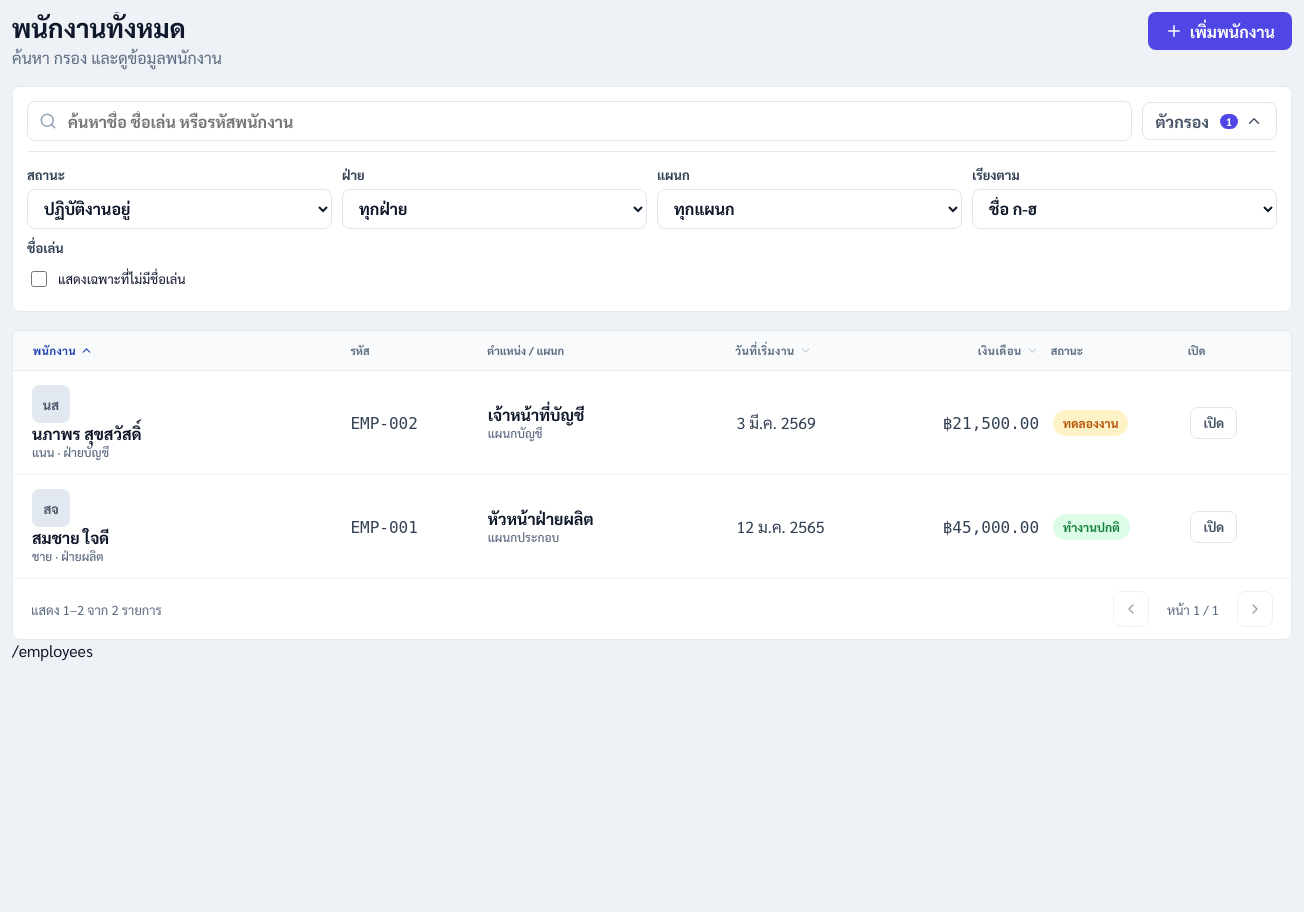
Test: EmployeeListPage filter disclosure › opens expanded on desktop and toggles closed
The width and height of the screenshot is (1304, 912).
Expected: the dropdown labelled "สถานะ" is shown, [27,189,332,229]
Click the button "ตัวกรอง 1" at (1209, 121), box [1142,102,1277,140]
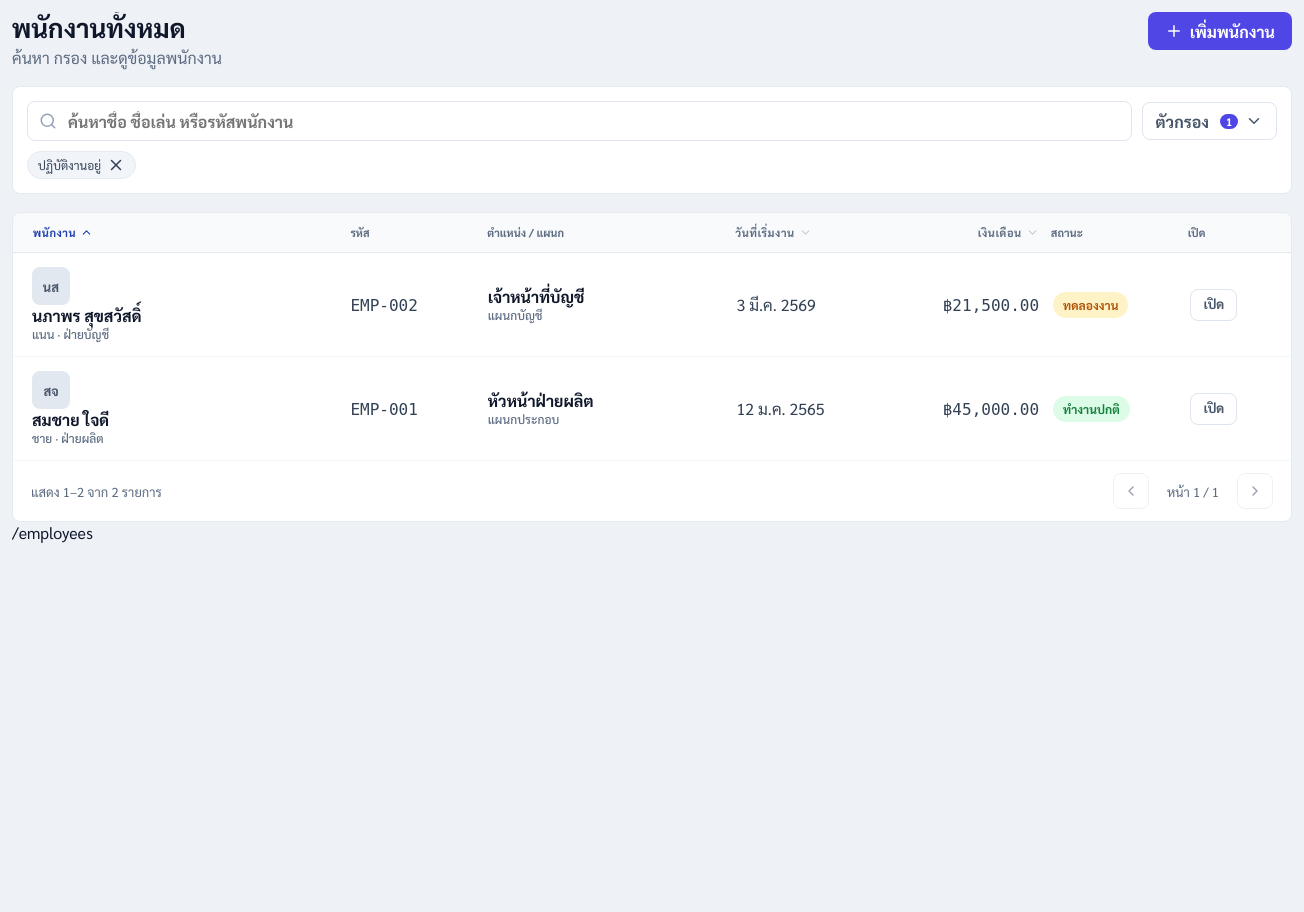
Expected: the button "ตัวกรอง 1" is collapsed, [1142,102,1277,140]
